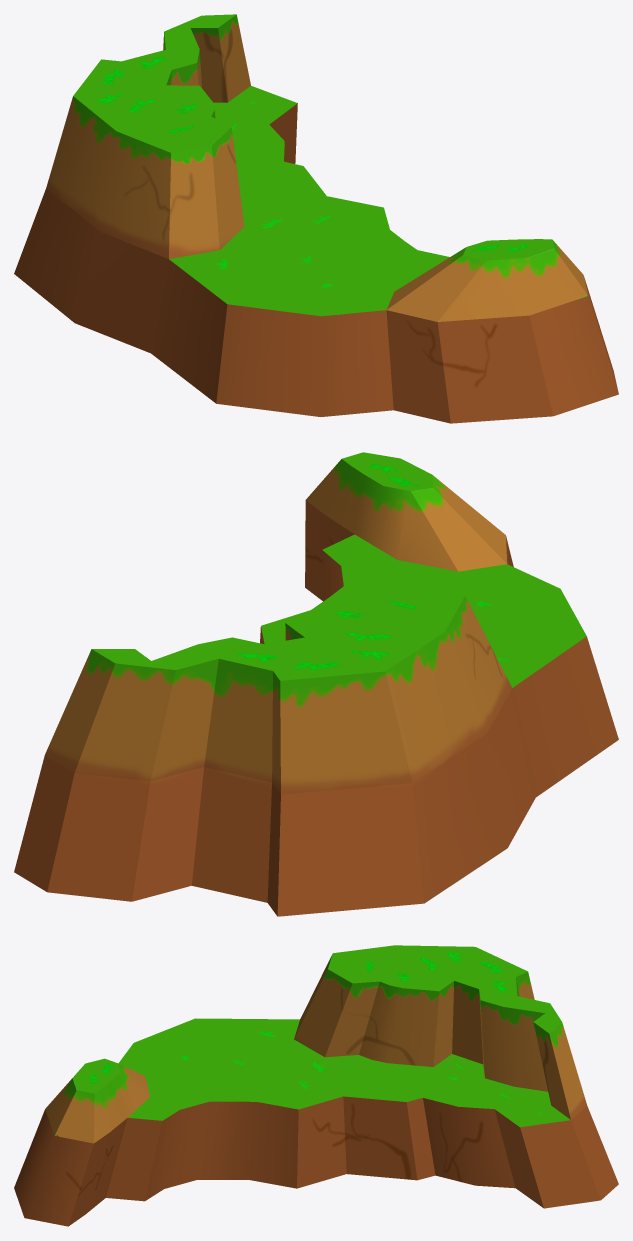
File: Terreno.fbx
The picture shows the model from 3 angles, top to bottom: view 1: azimuth 30°, elevation 25°; view 2: azimuth 150°, elevation 25°; view 3: azimuth 270°, elevation 25°; orthographic projection. The views are drawn at different scales.
Parts seen in each view (by area): view 1: Line035; view 2: Line035; view 3: Line035.
Boxes of the visible parts, bbox=[...] form: Line035: bbox=[14, 14, 618, 423]; Line035: bbox=[14, 452, 618, 916]; Line035: bbox=[14, 945, 618, 1226].
Size of the model in its own units: 114 by 54.18 by 196.
